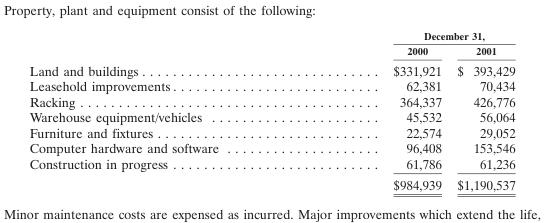table: (28, 28, 514, 191)
table column: (28, 28, 305, 191), (305, 28, 448, 191), (448, 28, 514, 191)
table column header: (28, 28, 514, 59)
table row: (28, 59, 514, 78), (28, 155, 514, 173), (28, 173, 514, 191), (28, 42, 514, 59), (28, 93, 514, 109), (28, 124, 514, 140), (28, 78, 514, 93), (28, 109, 514, 124), (28, 140, 514, 155), (28, 28, 514, 42)
table spanning cell: (305, 28, 514, 42)
